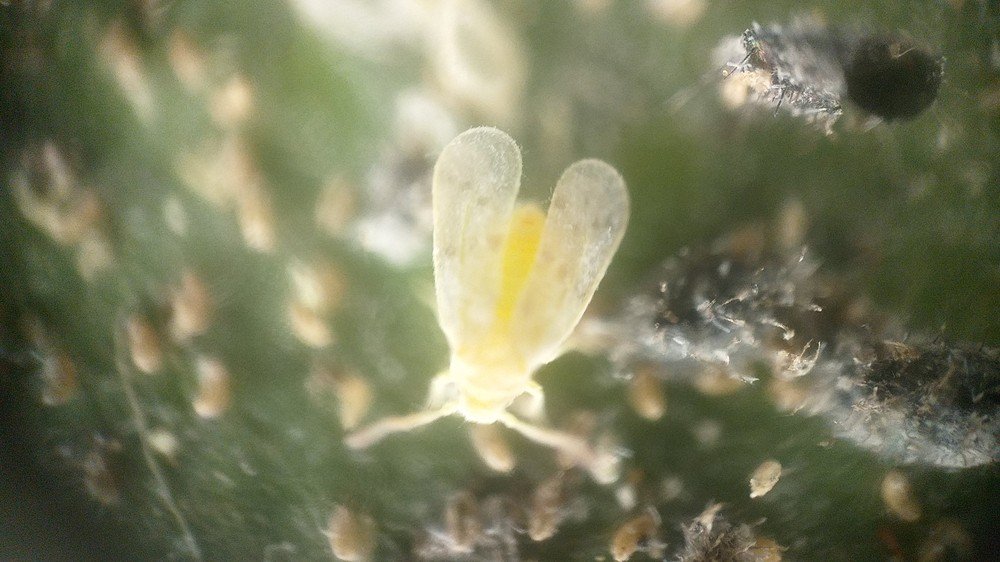Mosca Blanca: (325, 118, 662, 482)
